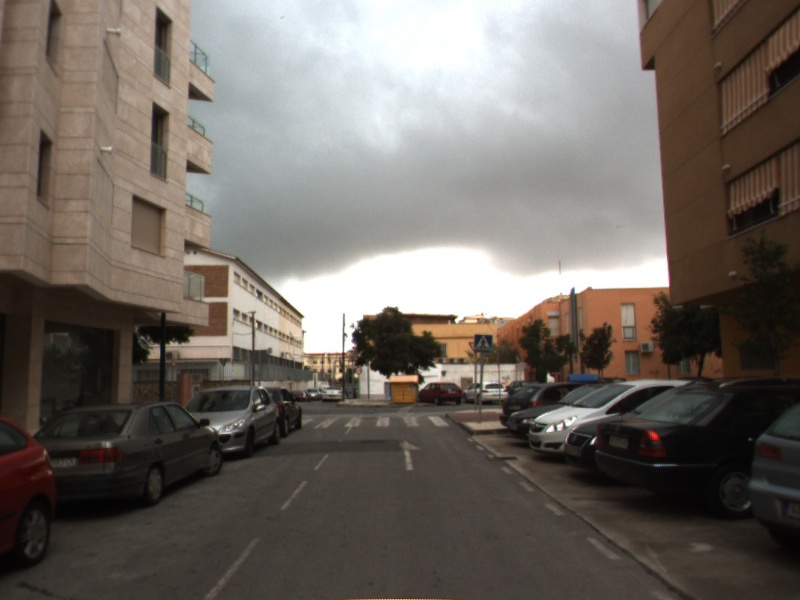STRAIGHT: (397, 438, 424, 472)
